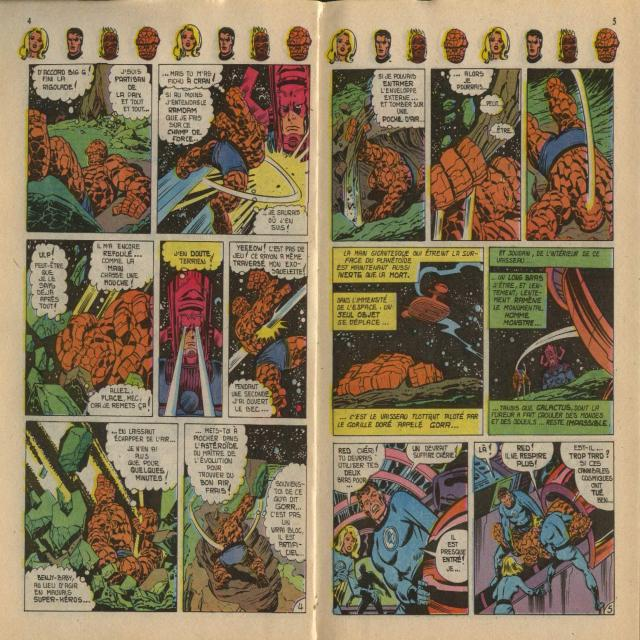comic_panel: (23, 420, 178, 614), (330, 245, 485, 438), (156, 62, 312, 240), (473, 439, 615, 618), (487, 245, 617, 438), (180, 422, 308, 615), (330, 440, 470, 616), (23, 239, 155, 418), (25, 62, 152, 237), (330, 66, 428, 244), (430, 67, 523, 243), (525, 66, 616, 244), (228, 239, 309, 421), (158, 239, 224, 420)
